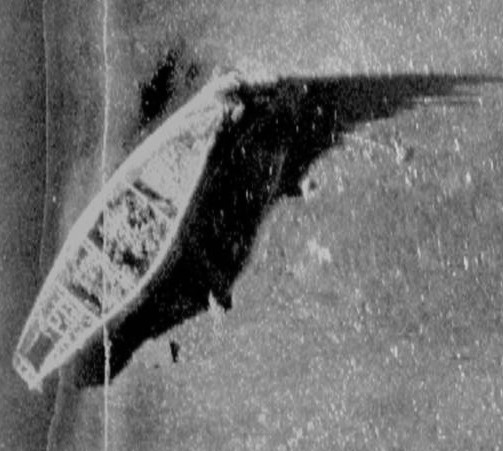ship: (11, 71, 242, 398)
